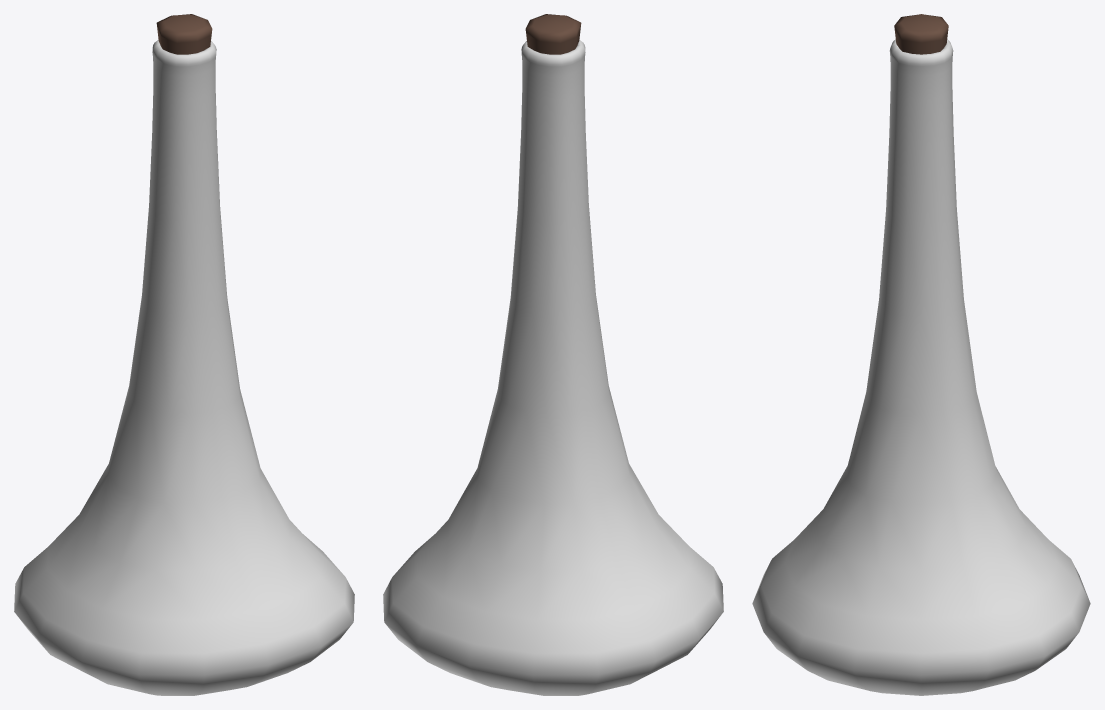
The model's file is Potion7_Filled.glb.
3 views of the same model, side by side, from view 1: azimuth 30°, elevation 25°; view 2: azimuth 150°, elevation 25°; view 3: azimuth 270°, elevation 25° (orthographic).
Parts seen in each view (by area): view 1: Potion7_Filled; view 2: Potion7_Filled; view 3: Potion7_Filled.
Boxes of the visible parts, box(x1,y1,x2,y2) form: Potion7_Filled: box(14, 14, 354, 695); Potion7_Filled: box(383, 14, 723, 695); Potion7_Filled: box(752, 14, 1090, 695).
Bounding box in the file's own units: 0.7035 × 1.51 × 0.7035.
